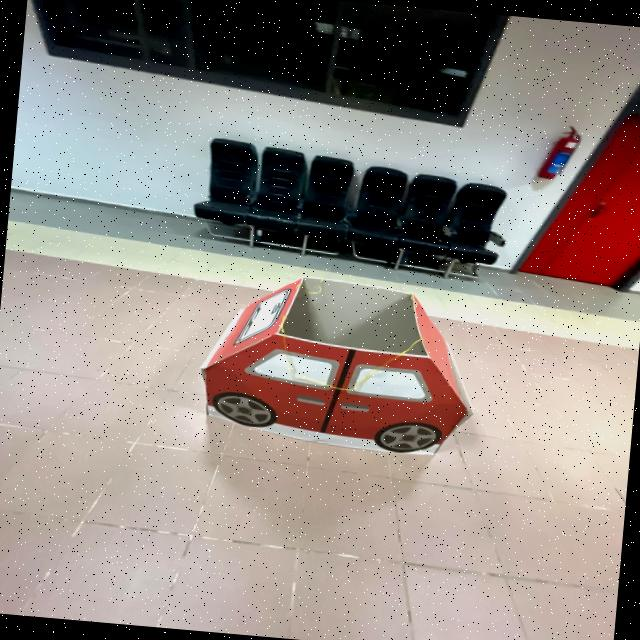red_car: (169, 261, 502, 470)
